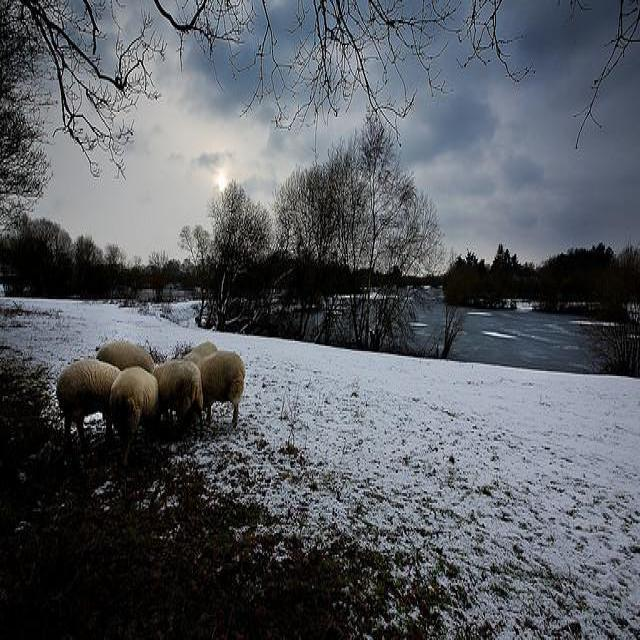Sheep: (56, 359, 122, 448), (108, 368, 160, 471), (194, 349, 249, 431), (154, 361, 204, 441)
